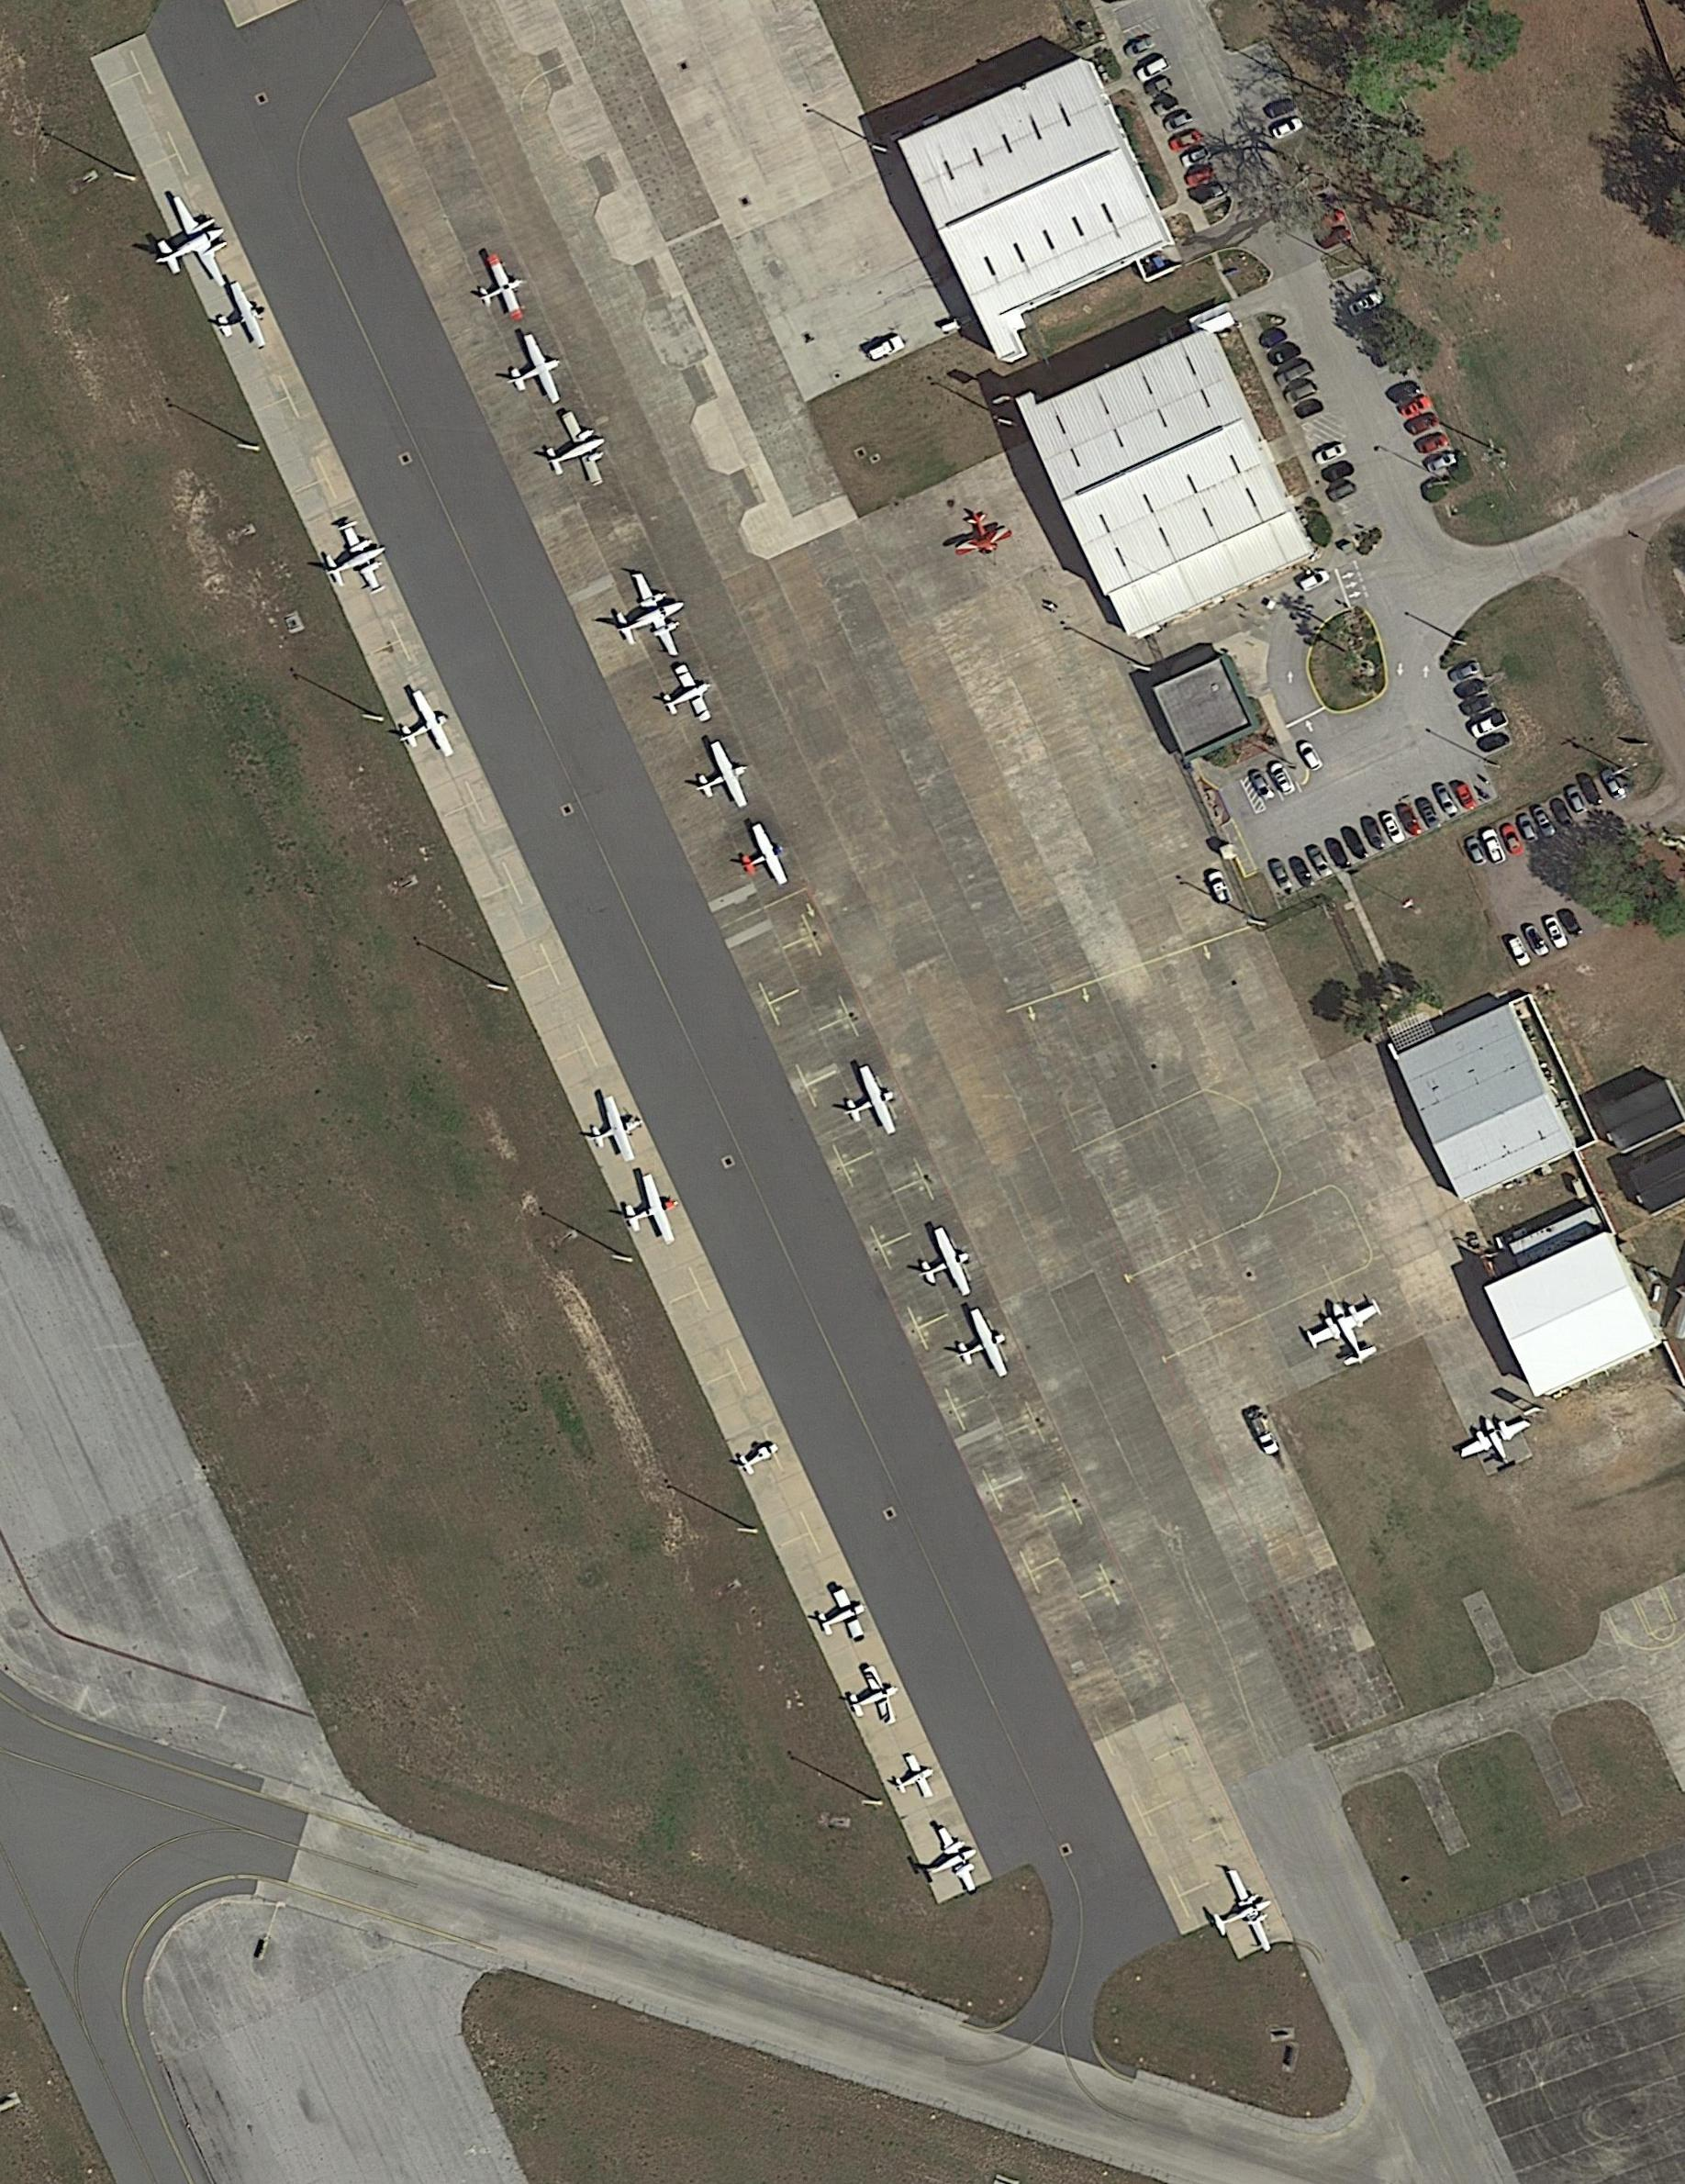plane: (131, 184, 242, 308), (598, 561, 699, 673), (1196, 1864, 1287, 1968), (1299, 1287, 1396, 1380), (531, 404, 621, 503), (308, 513, 398, 609), (1450, 1402, 1545, 1485), (492, 327, 573, 418), (609, 1166, 689, 1258), (381, 685, 462, 773), (940, 1303, 1019, 1393), (828, 1058, 906, 1149), (681, 736, 761, 821), (904, 1223, 982, 1310), (910, 1821, 988, 1906), (577, 1090, 651, 1173), (202, 276, 274, 361), (464, 250, 536, 333), (650, 657, 722, 734), (839, 1660, 908, 1740), (727, 818, 796, 897), (809, 1584, 874, 1655), (943, 501, 1014, 565), (885, 1749, 943, 1811)
